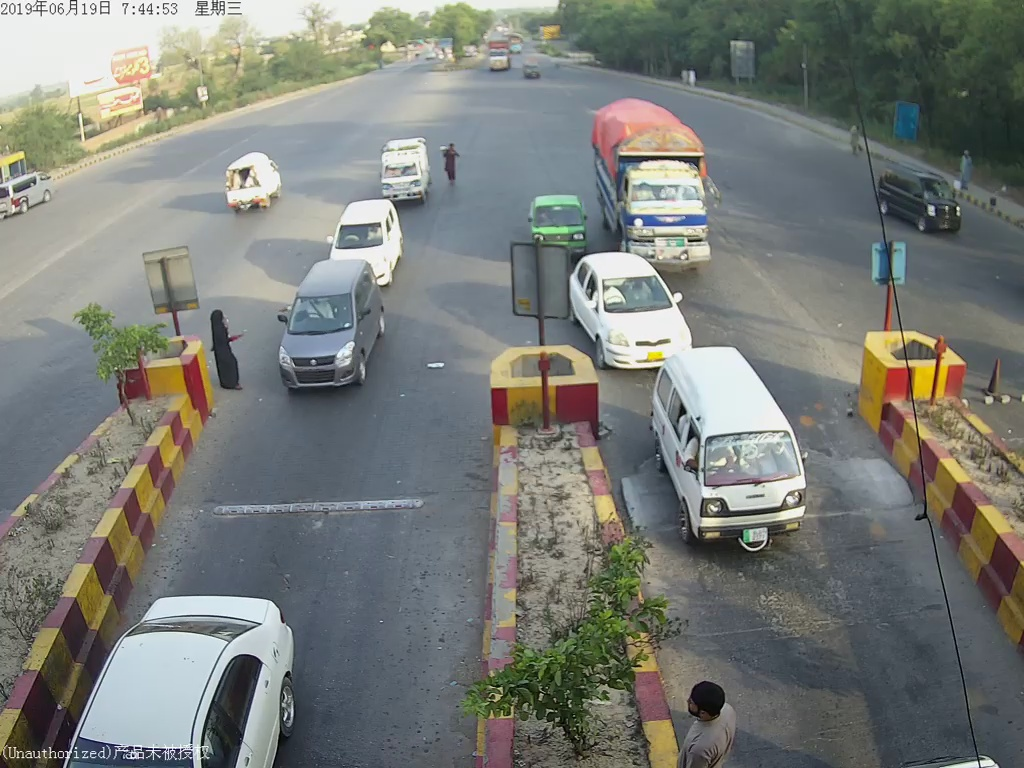Cat-1: (651, 349, 816, 561), (272, 264, 387, 388), (568, 261, 690, 349), (329, 200, 404, 256)
Cat-4: (587, 95, 721, 263)
